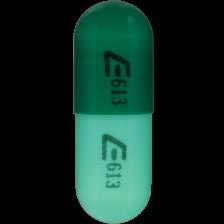68084-847: (0, 0, 224, 224)
